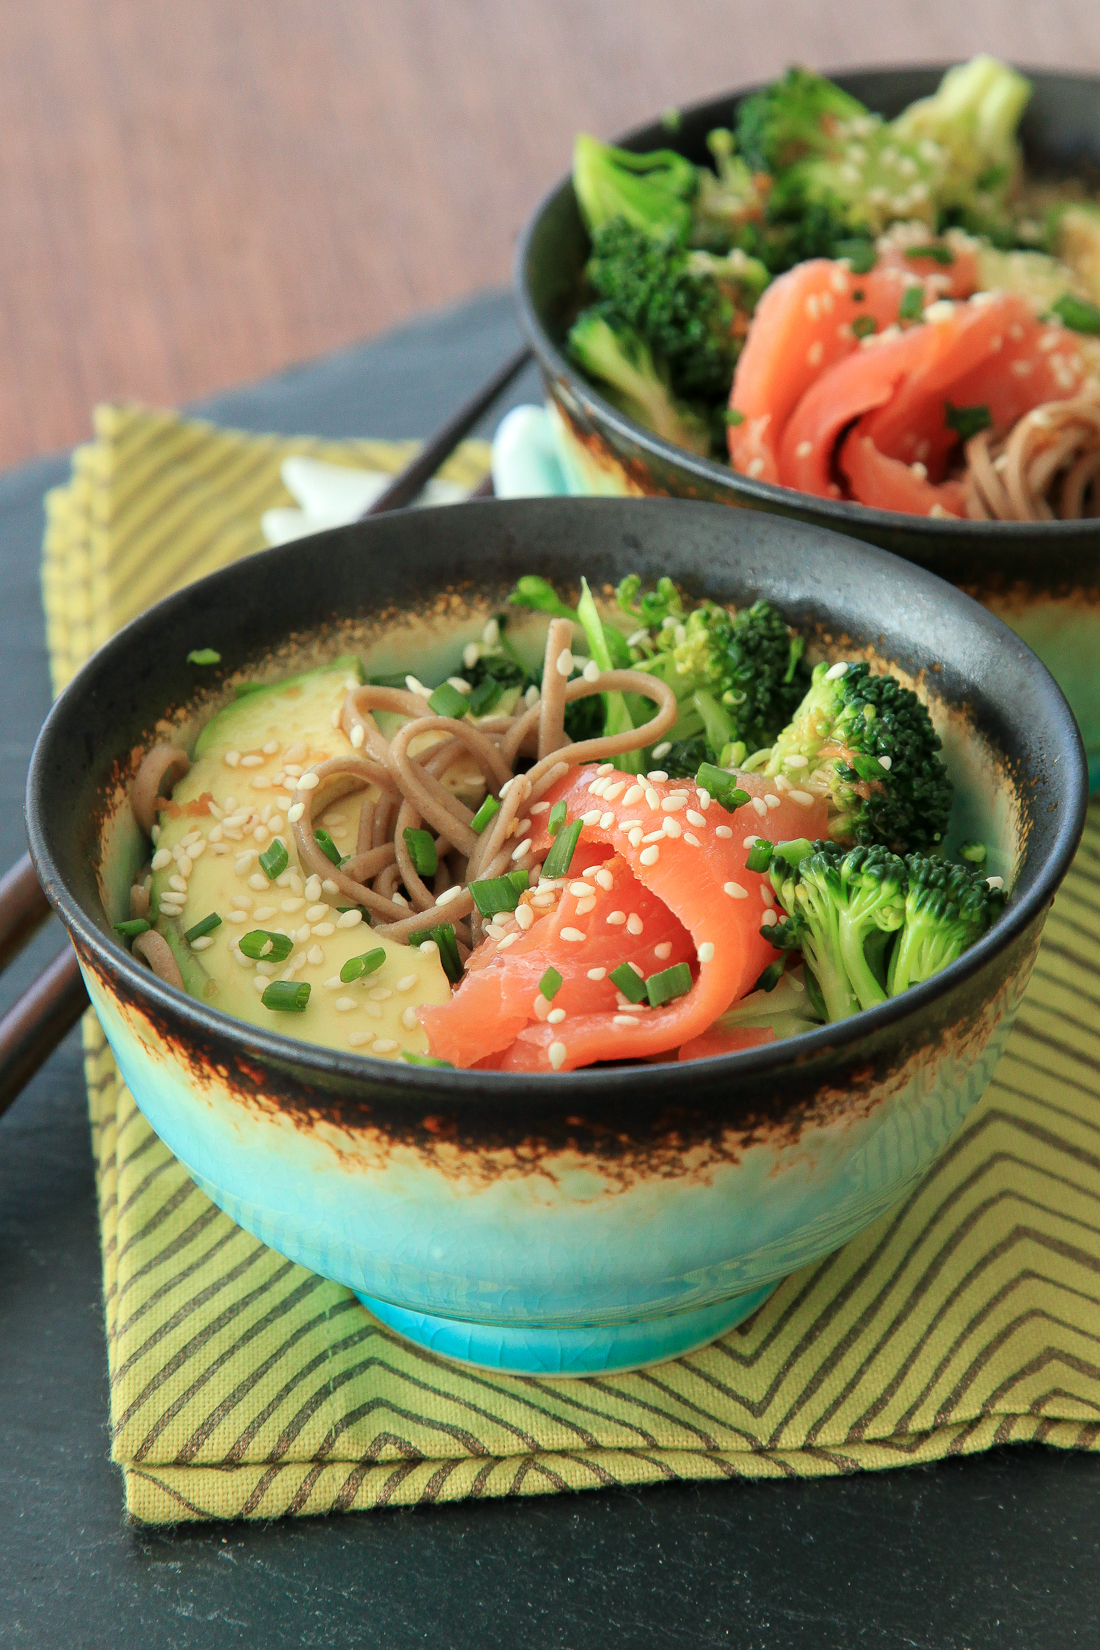Soba: (300, 602, 683, 938)
